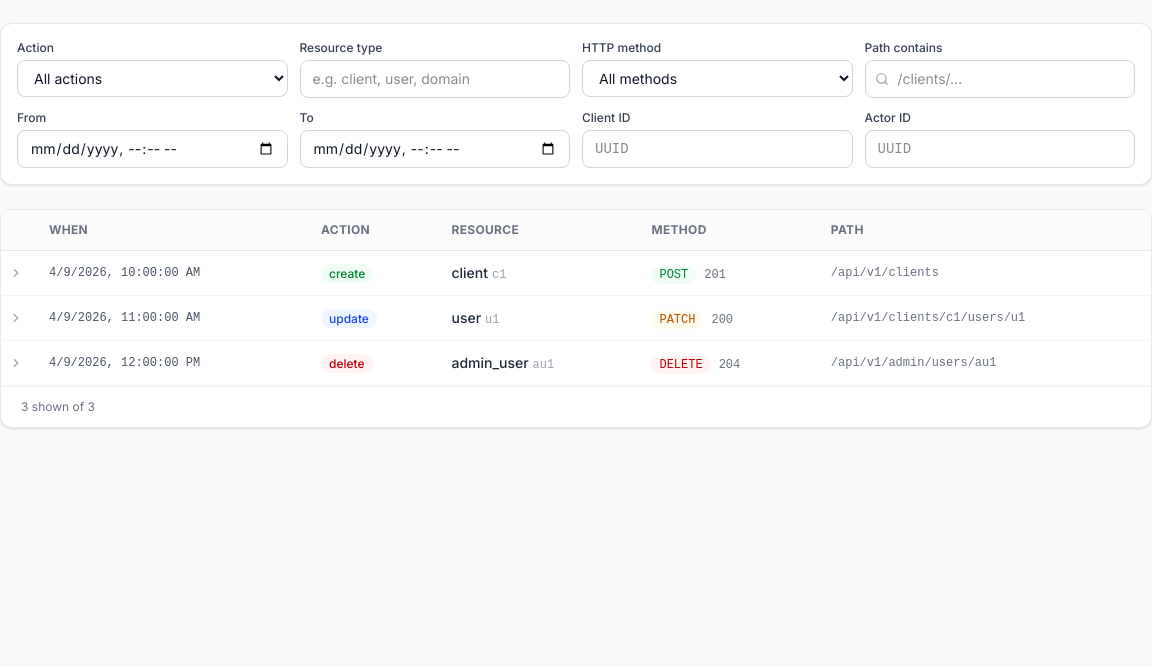
Test: AuditLogs page › expands a row to show details and the changes JSON
Click the row with test id "audit-log-row-a1": (576, 273) left=1, top=250, right=1151, bottom=296
(page scrolled)
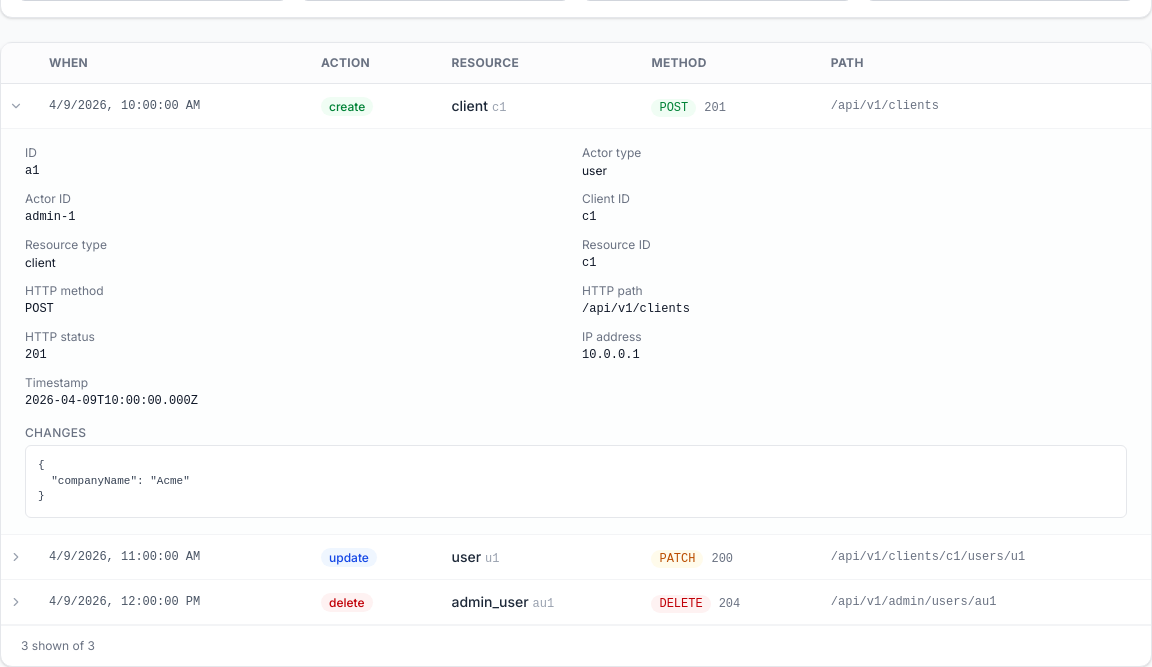
expect the cell with test id "audit-log-details-a1" is shown: met
expect the text "{ \"companyName\": \"Acme\" }" is shown: met, box left=25, top=445, right=1127, bottom=518
